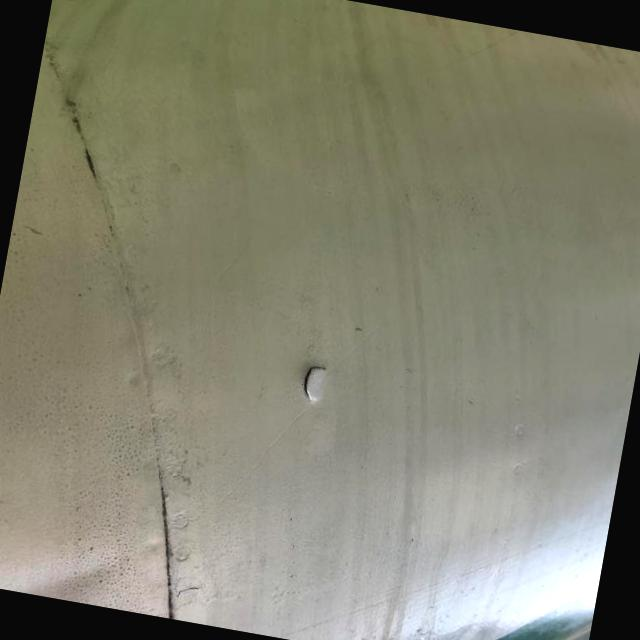crack: (288, 350, 344, 416)
